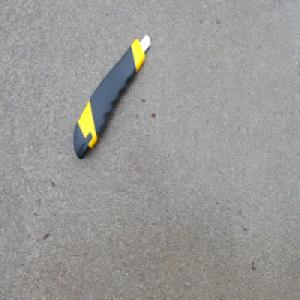Cutter: (72, 32, 151, 160)
